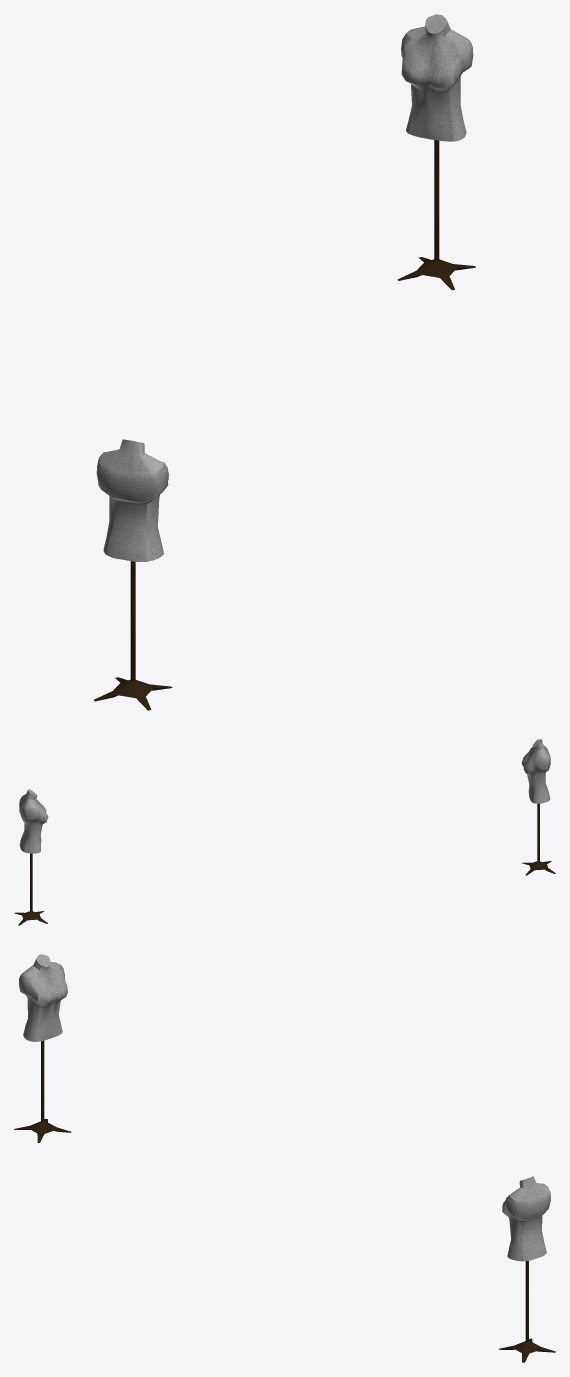
Rendered from mannequins.glb.
3 renders of one model, top to bottom at view 1: azimuth 30°, elevation 25°; view 2: azimuth 150°, elevation 25°; view 3: azimuth 270°, elevation 25°, orthographic. The views are drawn at different scales.
Parts seen in each view (by area): view 1: mannequins; view 2: mannequins; view 3: mannequins.
Boxes of the visible parts, x1,y1,x2,y2 form: mannequins: [94, 14, 475, 710]; mannequins: [14, 739, 555, 925]; mannequins: [14, 954, 555, 1362].
Bounding box in the file's own units: 4.72 × 1.58 × 4.44.
Materials: 1 (1 with a texture image).
